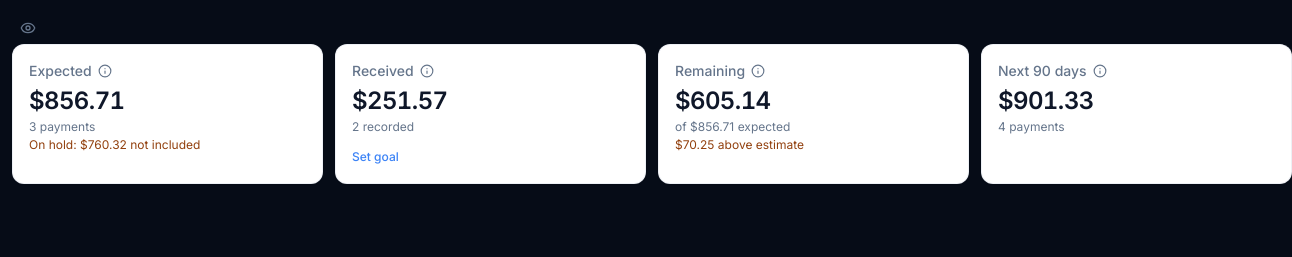
Test: Monthly goal › a failed save keeps the typed amount and says so
Click the button "Set goal" at (375, 157), box [352,149,399,165]
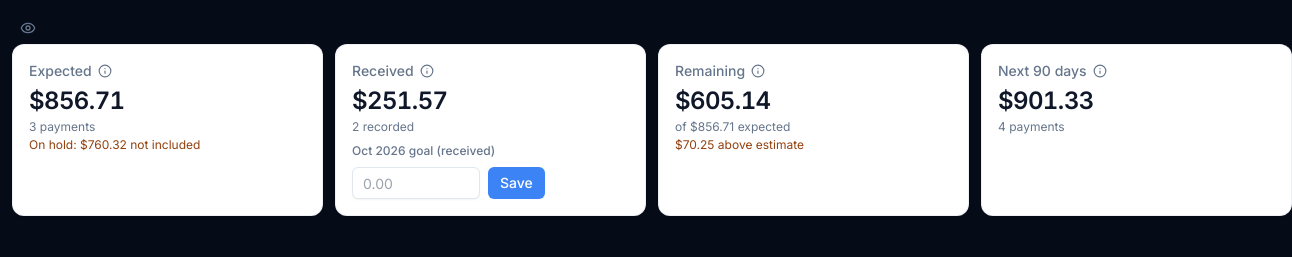
Type "900" into the field labelled "Oct 2026 goal (received)" at (416, 183), box [352,167,480,199]
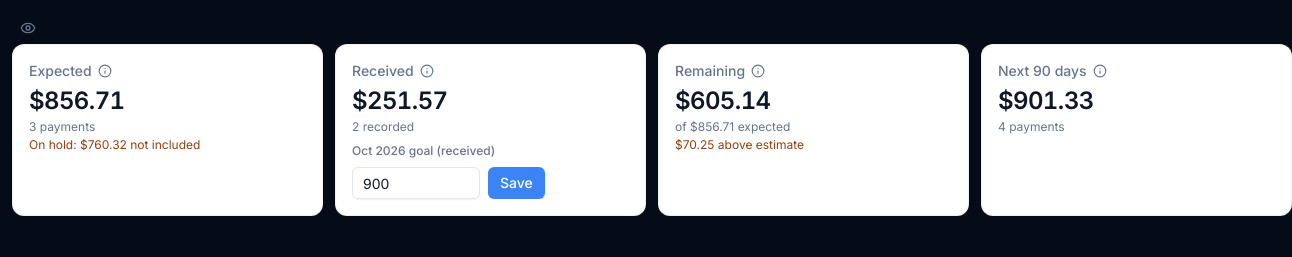
Click the button "Save" at (516, 183), box [488,167,545,199]
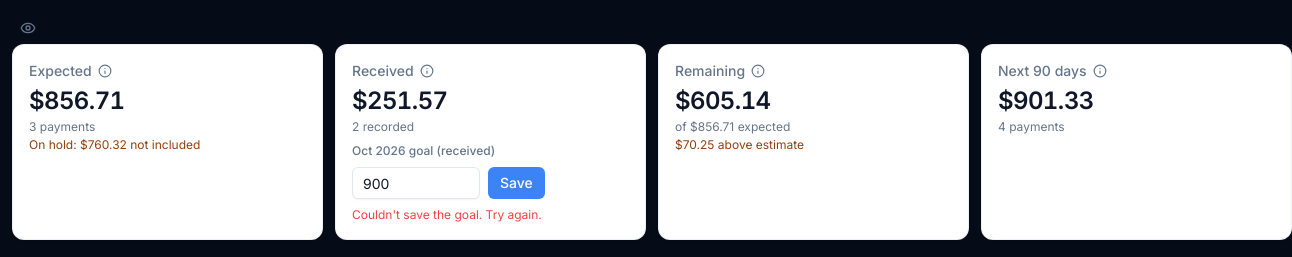
Expected: the message reads "Couldn't save the goal. Try again.", [352,207,542,222]
